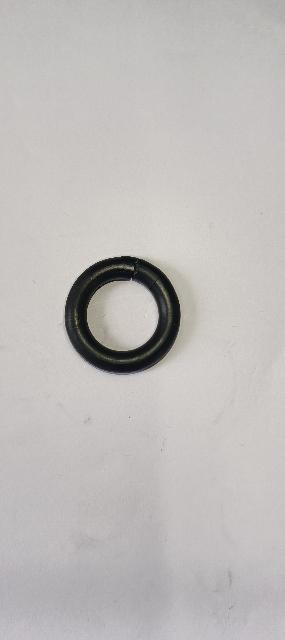crack: (126, 254, 146, 283)
scratch: (148, 269, 167, 294)
